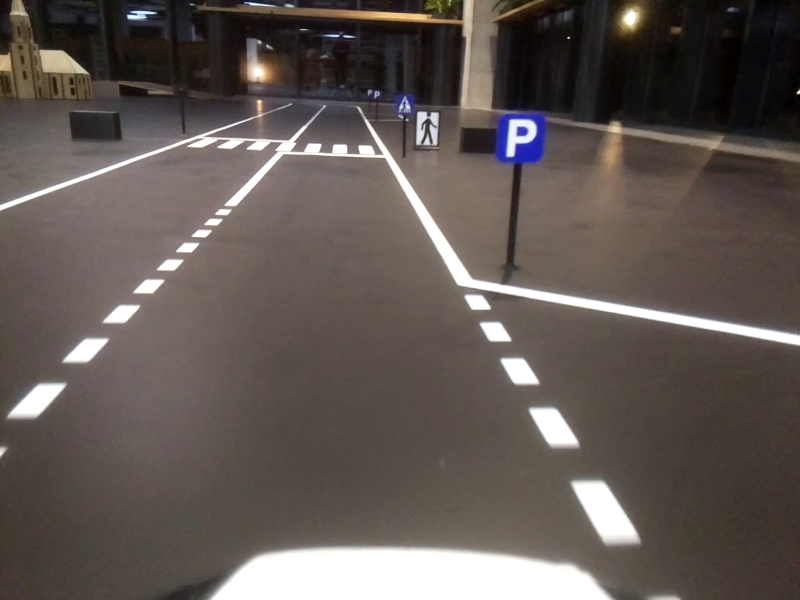park: (497, 111, 542, 164)
